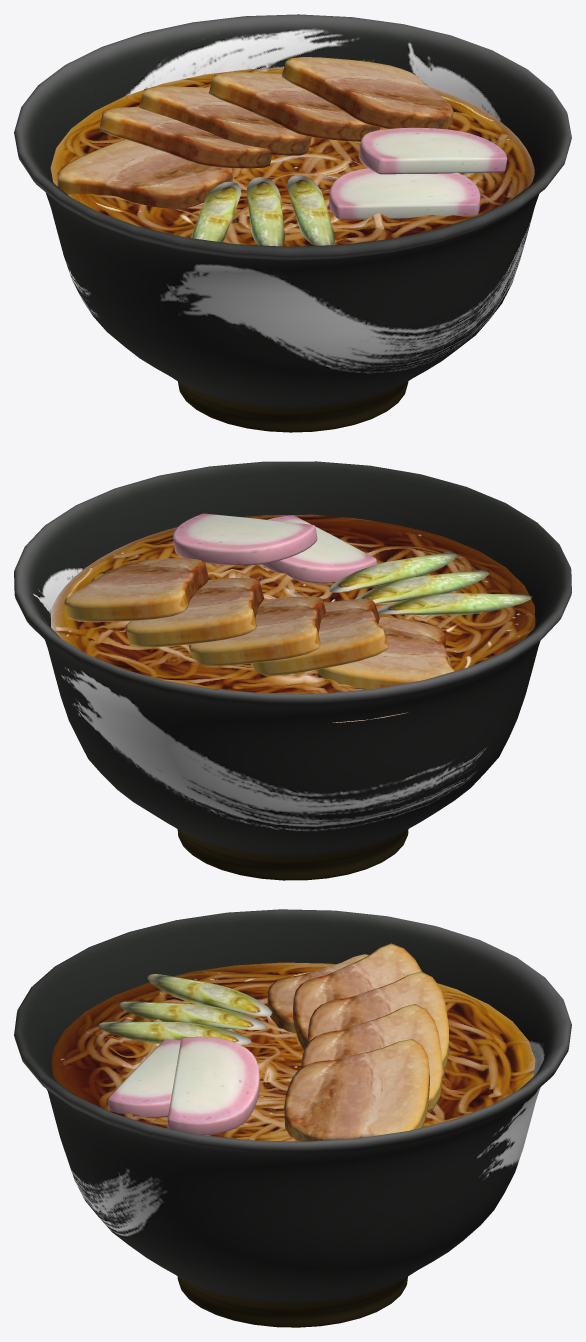
File: kamosoba.glb
3 views of the same model, one above another, from view 1: azimuth 30°, elevation 25°; view 2: azimuth 150°, elevation 25°; view 3: azimuth 270°, elevation 25° (orthographic).
Visible parts, largest first — view 1: KamoSoba; view 2: KamoSoba; view 3: KamoSoba.
Boxes of the visible parts, left/top/right/bottom form: KamoSoba: left=14, top=14, right=571, bottom=432; KamoSoba: left=14, top=461, right=571, bottom=880; KamoSoba: left=14, top=909, right=571, bottom=1327.
Bounding box in the file's own units: 0.1772 × 0.0941 × 0.1772.
2 materials, 2 textured.
